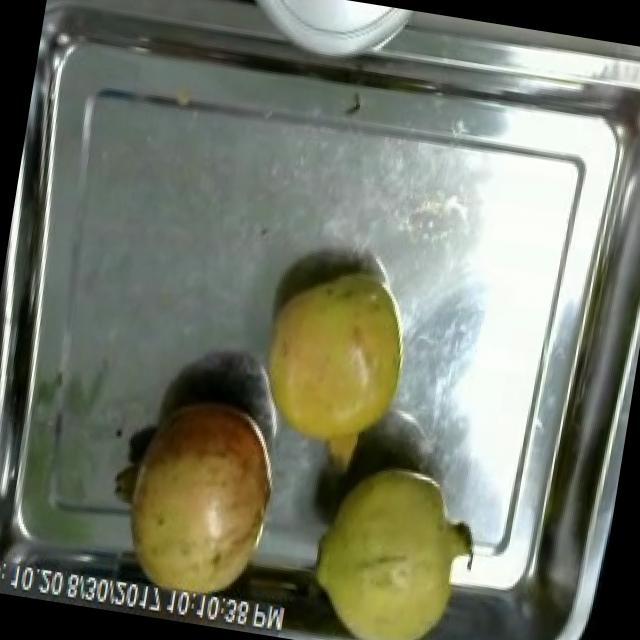fruit: (102, 378, 294, 624), (243, 247, 427, 473), (290, 443, 500, 640)
